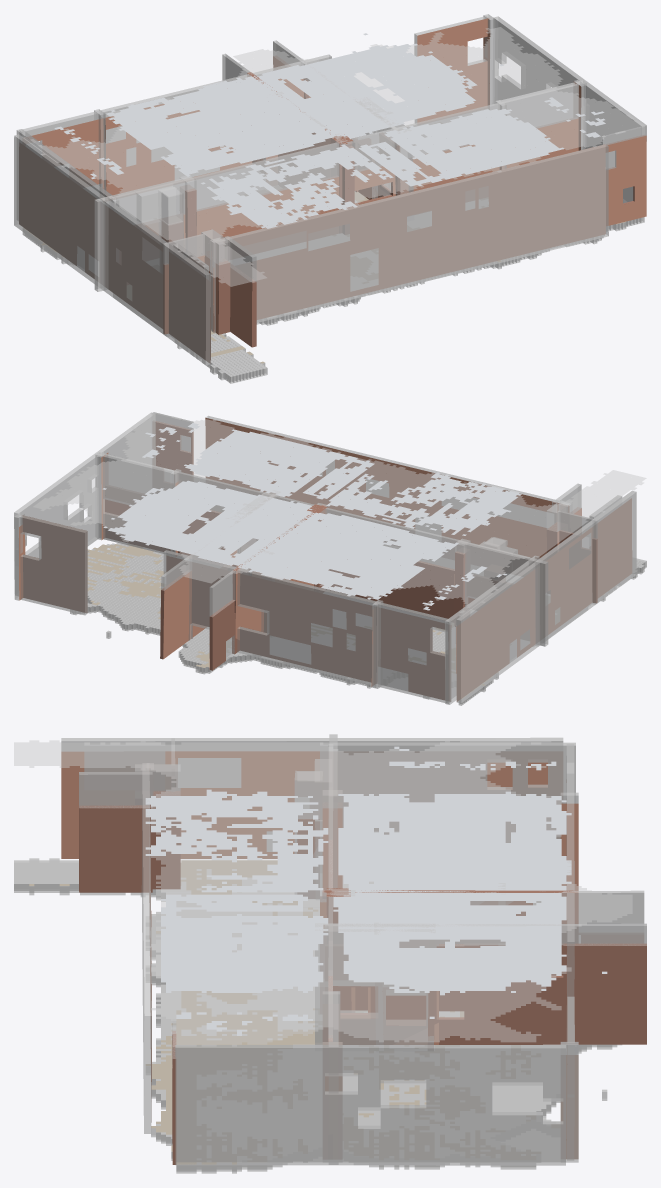
Rendered from modelo.glb.
3 renders of one model, top to bottom at view 1: azimuth 30°, elevation 25°; view 2: azimuth 150°, elevation 25°; view 3: azimuth 270°, elevation 25°, orthographic. The views are drawn at different scales.
Parts seen in each view (by area): view 1: CieloRaso_medido, Muro_M05_0_cuerpo_supuesto, CieloRaso_supuesto, Muro_M05_0_cara_medida, Muro_M07_0_cuerpo_supuesto, Muro_M07_0_cara_medida, Muro_M00_0_cara_medida, Muro_M17_0_cara_medida, Muro_M04_0_cuerpo_supuesto, Muro_M00_0_cara_supuesta, Muro_M04_0_cara_supuesta, Losa_cuerpo (+23 smaller); view 2: CieloRaso_medido, CieloRaso_supuesto, Muro_M17_0_cuerpo_supuesto, Muro_M07_0_cuerpo_supuesto, Muro_M17_0_cara_medida, Muro_M07_0_cara_medida, Muro_M05_0_cara_medida, Losa_cuerpo, Muro_M17_1_cuerpo_supuesto, Muro_M04_0_cuerpo_supuesto, Muro_M00_0_cuerpo, Muro_M17_1_cara_medida (+24 smaller); view 3: CieloRaso_medido, CieloRaso_supuesto, Muro_M04_0_cuerpo_supuesto, Piso_medido, Muro_M11_0_cuerpo, Losa_cuerpo, Muro_M07_0_cara_medida, Muro_M08_1_cuerpo_supuesto, Piso_supuesto, Muro_M08_1_cara_supuesta, Muro_M35_0_cuerpo, Muro_M07_0_cuerpo_supuesto (+30 smaller).
Boxes of the visible parts, <box> form: CieloRaso_medido: <box>54,33,605,228</box>; Muro_M05_0_cuerpo_supuesto: <box>212,144,608,333</box>; CieloRaso_supuesto: <box>23,27,643,286</box>; Muro_M05_0_cara_medida: <box>211,144,605,330</box>; Muro_M07_0_cuerpo_supuesto: <box>14,134,210,365</box>; Muro_M07_0_cara_medida: <box>19,143,210,363</box>; Muro_M00_0_cara_medida: <box>120,118,578,284</box>; Muro_M17_0_cara_medida: <box>27,78,310,195</box>; Muro_M04_0_cuerpo_supuesto: <box>493,16,646,202</box>; Muro_M00_0_cara_supuesta: <box>113,85,578,221</box>; Muro_M04_0_cara_supuesta: <box>493,19,641,202</box>; Losa_cuerpo: <box>22,200,644,383</box>; CieloRaso_medido: <box>102,423,521,610</box>; CieloRaso_supuesto: <box>33,413,646,616</box>; Muro_M17_0_cuerpo_supuesto: <box>163,550,450,703</box>; Muro_M07_0_cuerpo_supuesto: <box>456,490,636,703</box>; Muro_M17_0_cara_medida: <box>166,556,451,700</box>; Muro_M07_0_cara_medida: <box>456,498,631,701</box>; Muro_M05_0_cara_medida: <box>205,417,569,560</box>; Losa_cuerpo: <box>70,543,646,705</box>; Muro_M17_1_cuerpo_supuesto: <box>19,515,87,615</box>; Muro_M04_0_cuerpo_supuesto: <box>14,412,155,595</box>; Muro_M00_0_cuerpo: <box>105,486,498,621</box>; Muro_M17_1_cara_medida: <box>22,515,87,612</box>; CieloRaso_medido: <box>145,746,607,1035</box>; CieloRaso_supuesto: <box>14,738,632,1046</box>; Muro_M04_0_cuerpo_supuesto: <box>175,1045,565,1165</box>; Piso_medido: <box>29,860,559,1164</box>; Muro_M11_0_cuerpo: <box>325,943,646,1044</box>; Losa_cuerpo: <box>14,858,621,1173</box>; Muro_M07_0_cara_medida: <box>61,751,562,858</box>; Muro_M08_1_cuerpo_supuesto: <box>320,742,575,842</box>; Piso_supuesto: <box>14,858,607,1138</box>; Muro_M08_1_cara_supuesta: <box>320,745,575,842</box>; Muro_M35_0_cuerpo: <box>79,805,152,892</box>; Muro_M07_0_cuerpo_supuesto: <box>61,737,563,851</box>.
Size of the model in its own units: 12.16 by 2.3 by 10.36.
